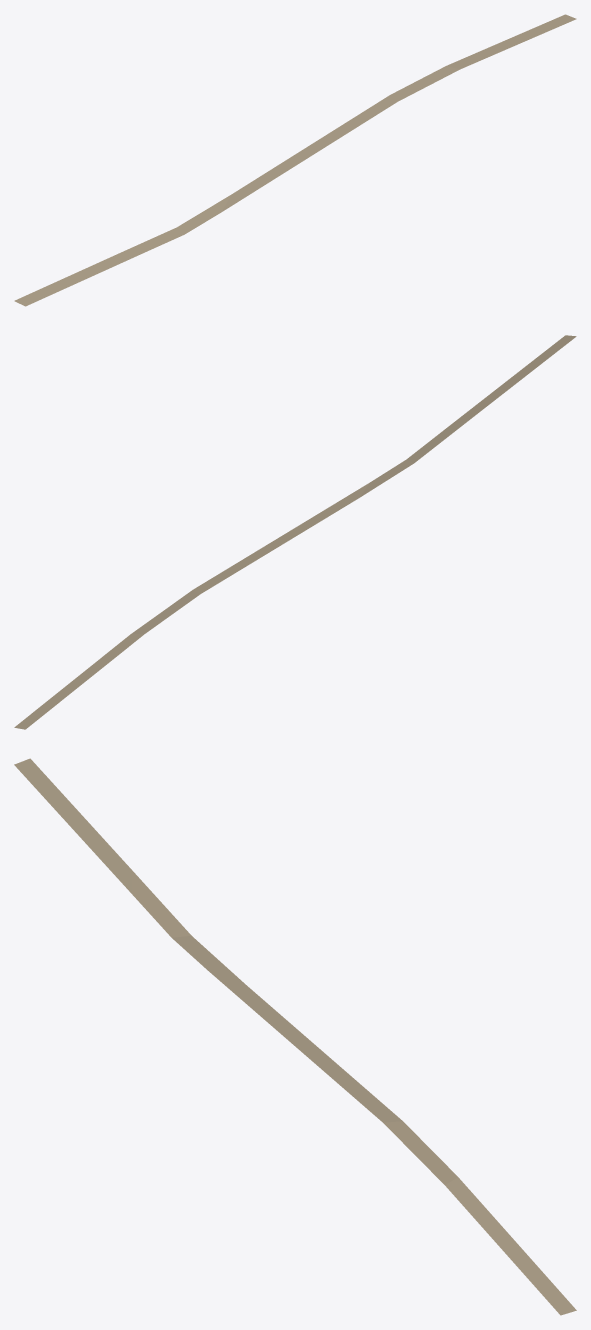
Rendered from farm_-27_-30_track.glb.
3 renders of one model, top to bottom at view 1: azimuth 30°, elevation 25°; view 2: azimuth 210°, elevation 25°; view 3: azimuth 270°, elevation 25°, orthographic. The views are drawn at different scales.
Visible parts, largest first — view 1: geometry_0; view 2: geometry_0; view 3: geometry_0.
Boxes of the visible parts, box(x1,y1,x2,y2) form: geometry_0: box(14, 14, 576, 306); geometry_0: box(14, 335, 576, 729); geometry_0: box(14, 758, 576, 1315).
Bounding box in the file's own units: 208 × 14.2 × 102.
